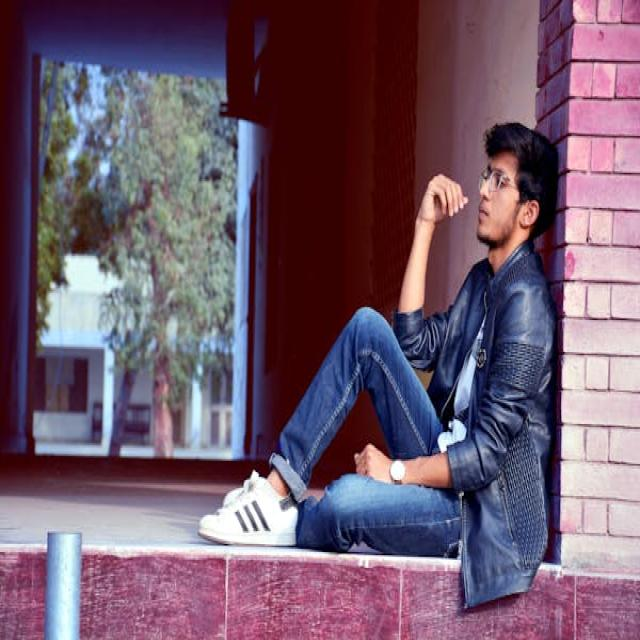Real human 2: (185, 117, 598, 602)
